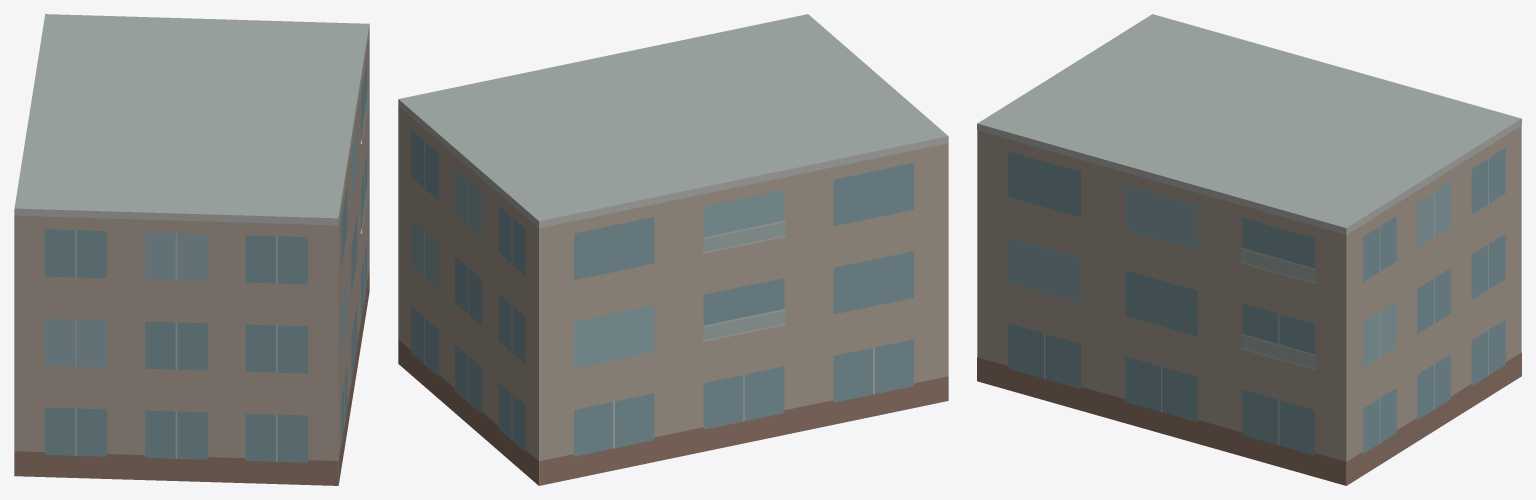
The model's file is survey-upis-32704762.glb.
3 views of the same model, side by side, from view 1: azimuth 30°, elevation 25°; view 2: azimuth 150°, elevation 25°; view 3: azimuth 270°, elevation 25° (orthographic). The views are drawn at different scales.
Visible parts, largest first — view 1: survey-upis-32704762.tmp; view 2: survey-upis-32704762.tmp; view 3: survey-upis-32704762.tmp.
Boxes of the visible parts, x1,y1,x2,y2 form: survey-upis-32704762.tmp: [14, 14, 369, 485]; survey-upis-32704762.tmp: [398, 14, 948, 485]; survey-upis-32704762.tmp: [977, 14, 1521, 485].
Size of the model in its own units: 16.32 by 9.15 by 17.53.
